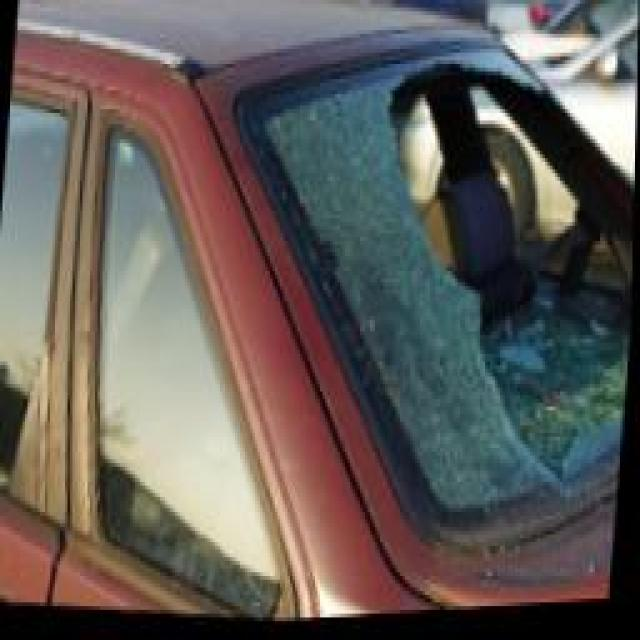Windshield: (243, 58, 635, 524)
